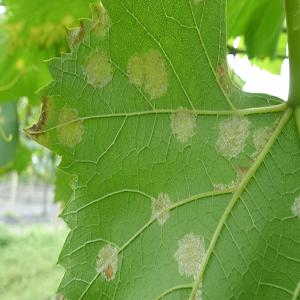Folha: (23, 0, 299, 298)
Fungo: (126, 47, 169, 100), (54, 102, 89, 155), (173, 231, 207, 281), (215, 113, 251, 160), (80, 46, 113, 90), (169, 106, 196, 144), (96, 242, 118, 282), (150, 192, 172, 226), (251, 125, 273, 159), (126, 52, 145, 88), (290, 195, 300, 218), (216, 63, 222, 77)
